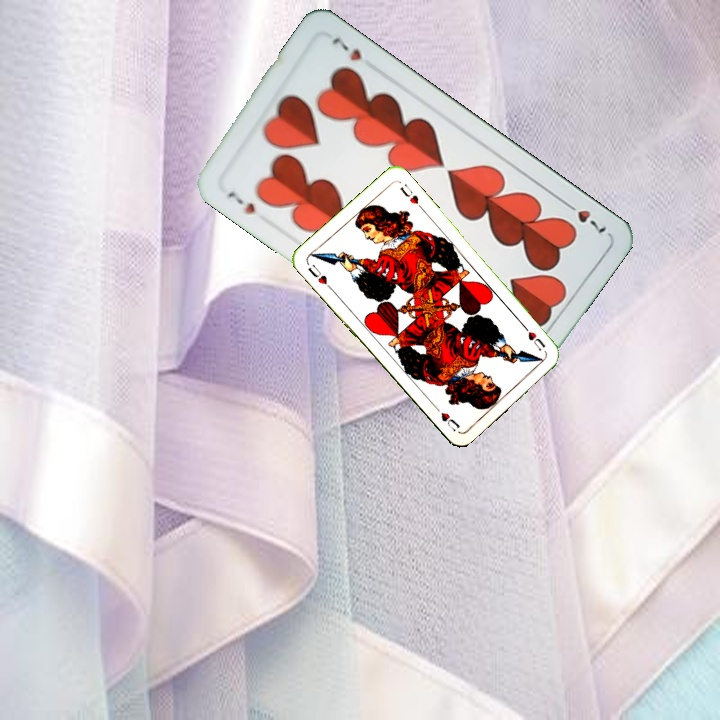H7: (559, 196, 610, 236), (221, 186, 258, 217)
HU: (304, 260, 334, 292), (524, 327, 548, 353)
